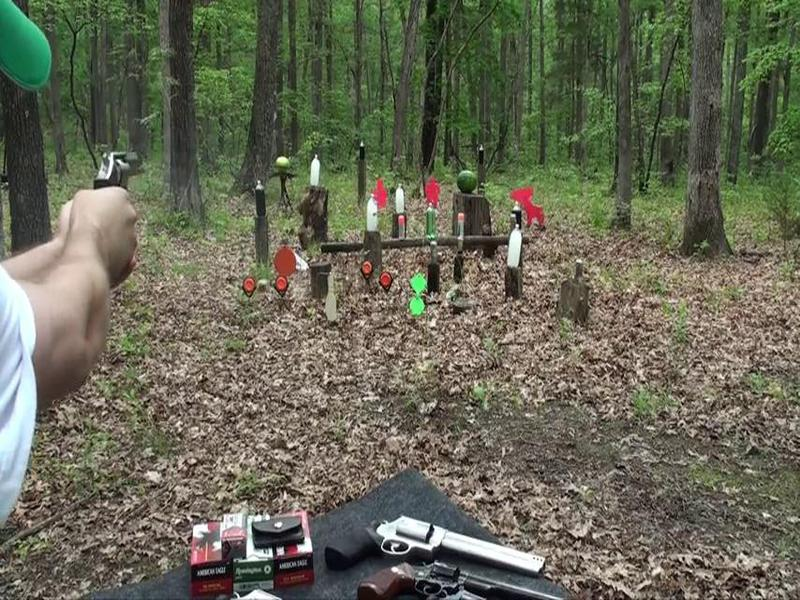Revolver: (78, 144, 157, 227)
